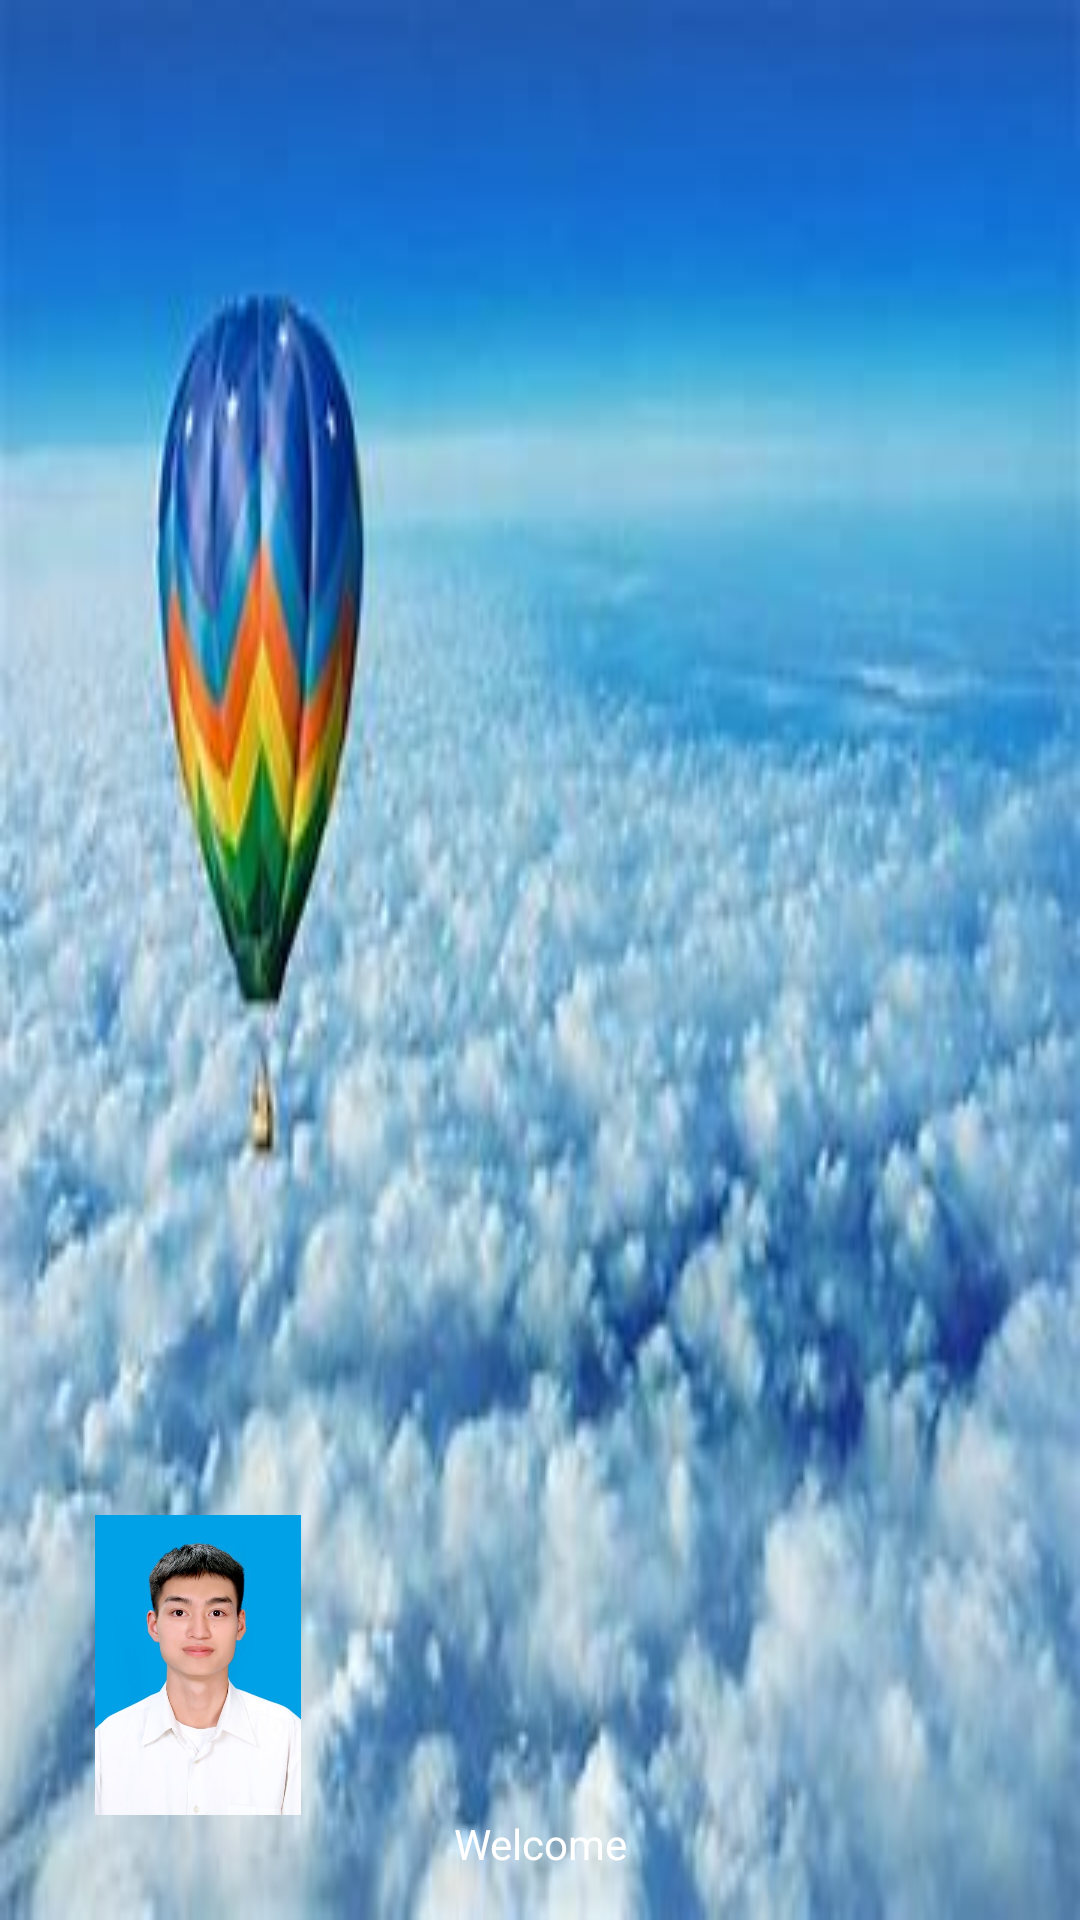

Where to tap for icons on this 1080px×1920px app screen, as (x=x, y=y):
anhchand: (x=198, y=1665)
